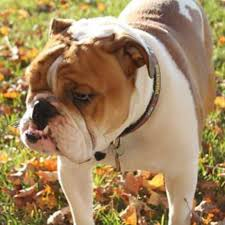Bulldog: (8, 7, 224, 220)
